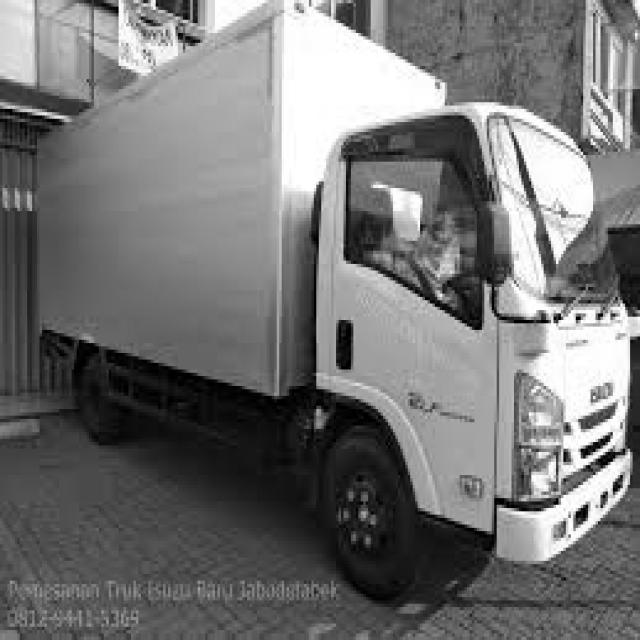truck: (292, 78, 640, 600)
